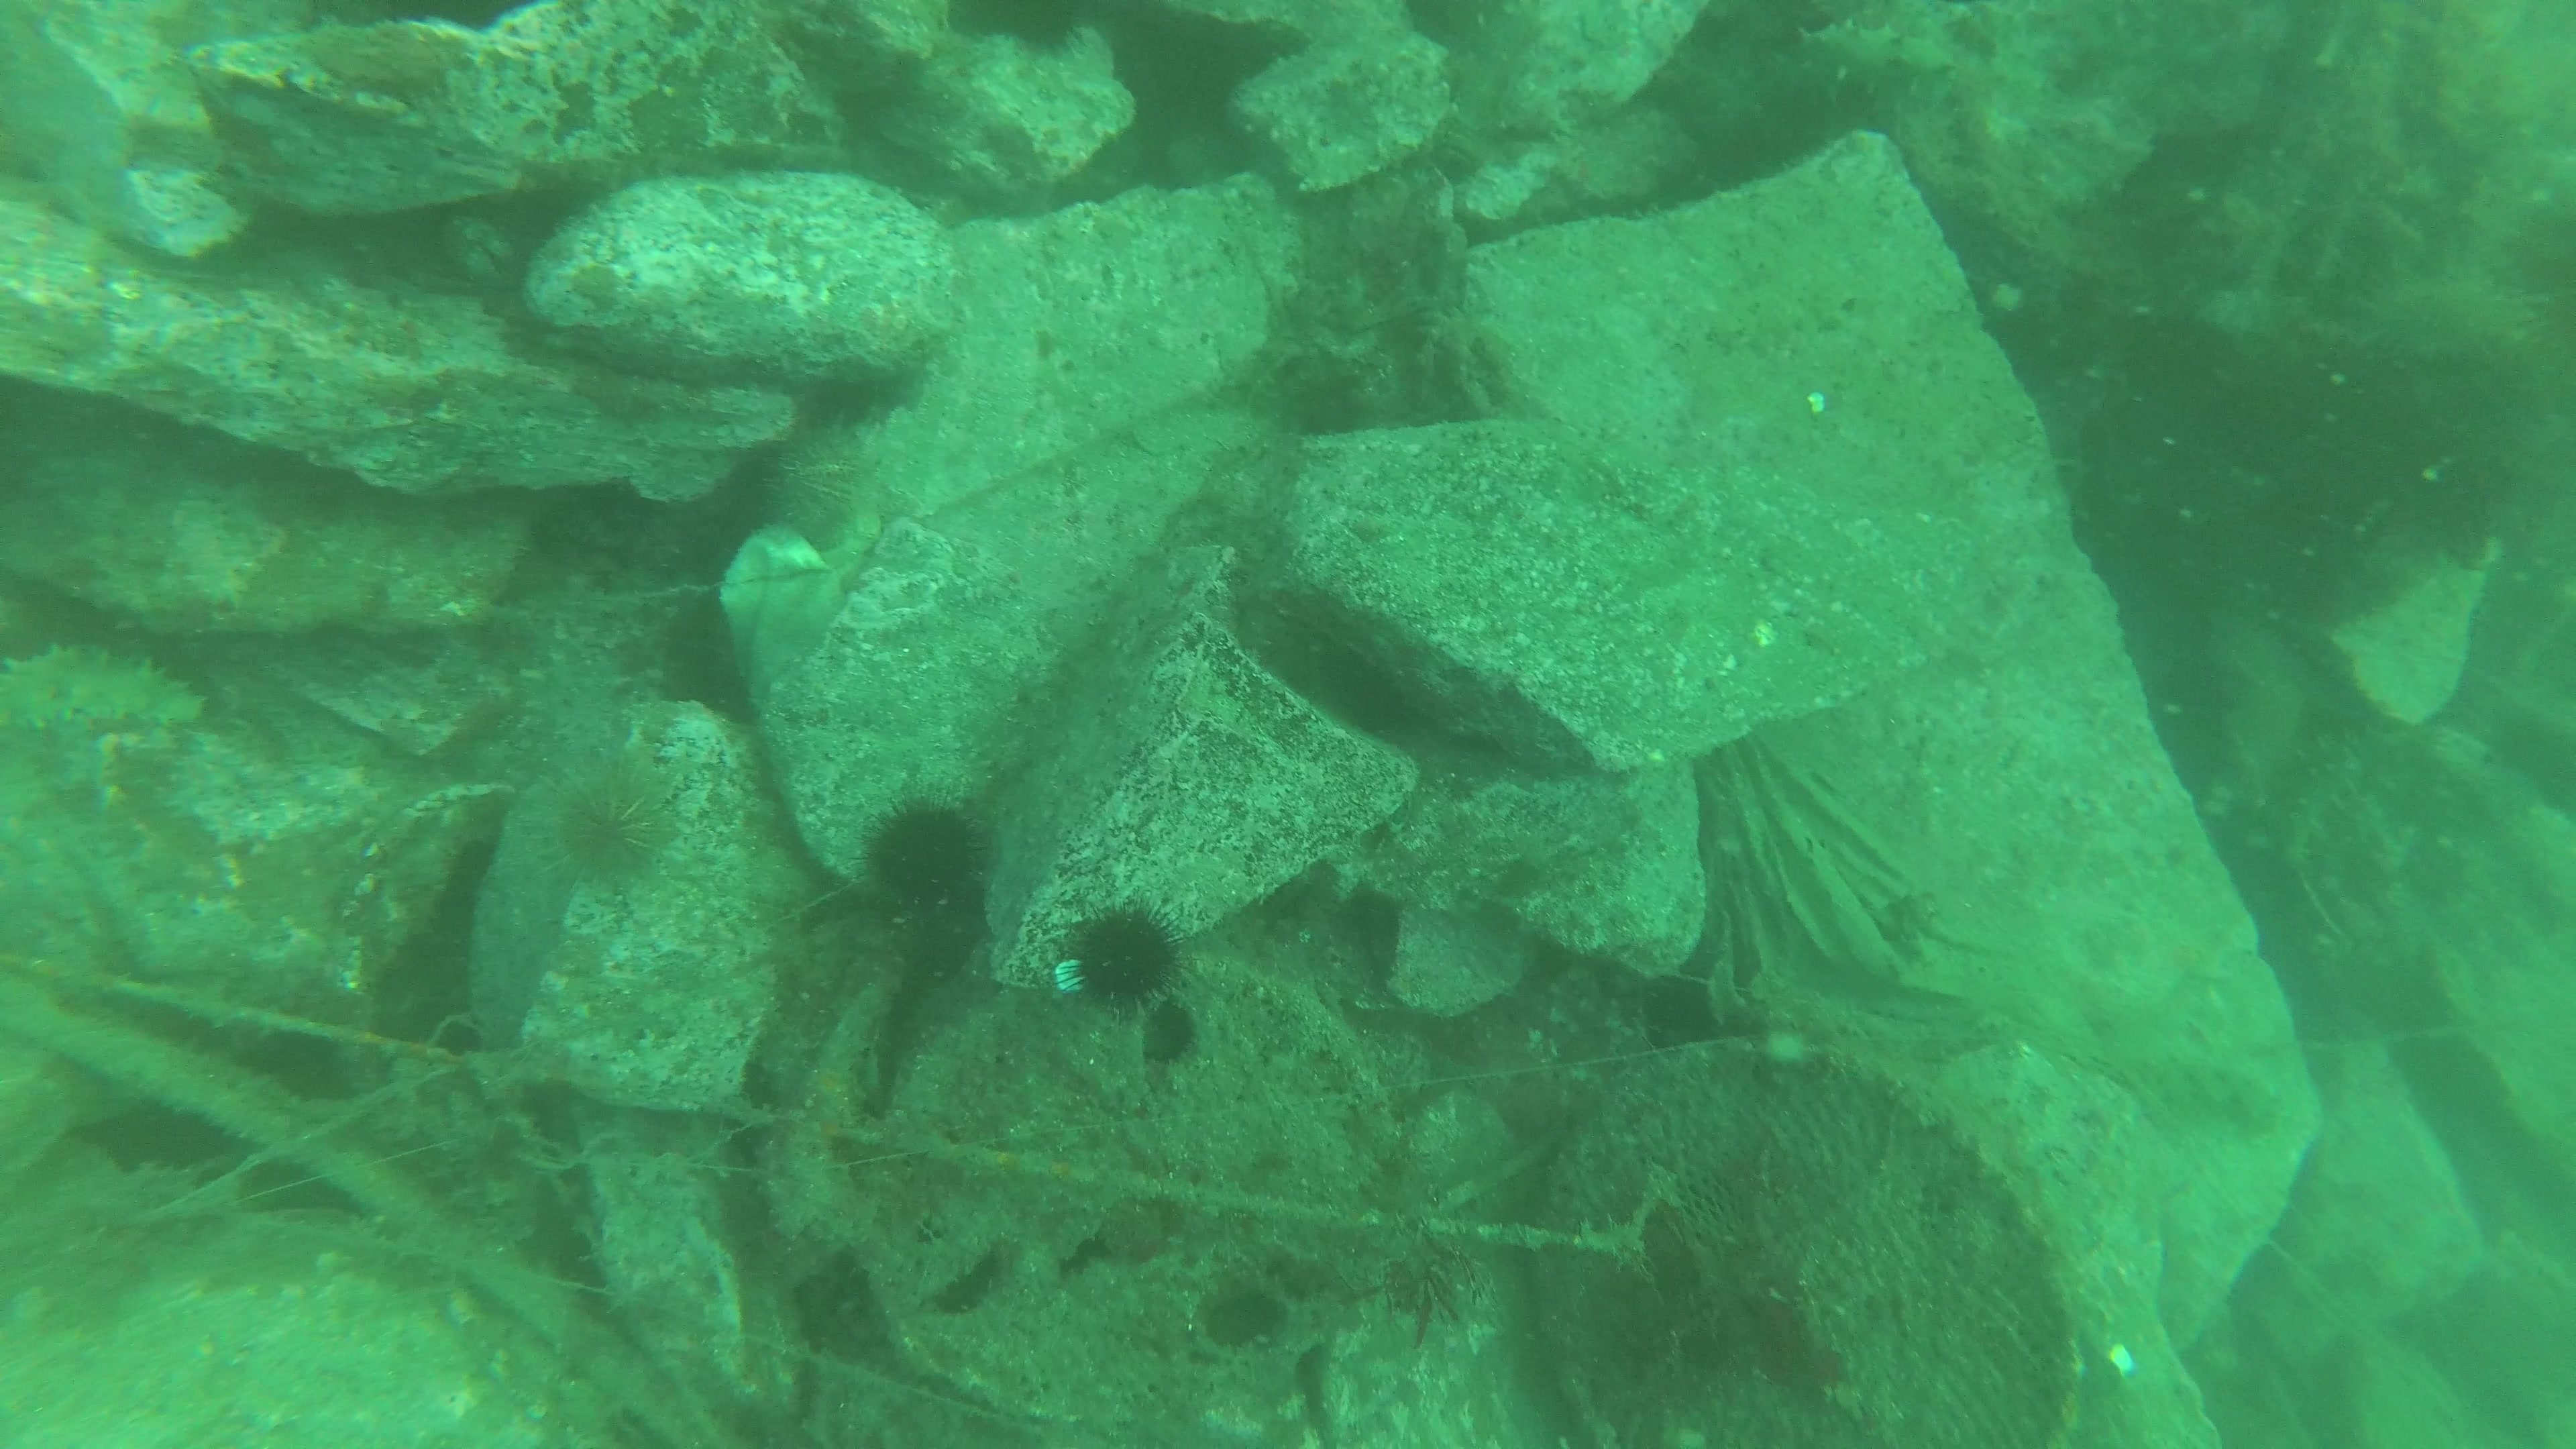echinus: (2233, 315, 2374, 501), (2098, 278, 2250, 418), (853, 805, 1005, 936), (2254, 497, 2390, 635), (1292, 630, 1430, 752), (1047, 899, 1185, 1007), (545, 777, 683, 885), (761, 418, 876, 540)
holothurian: (1928, 32, 2081, 269), (2074, 1024, 2295, 1127), (517, 623, 632, 810), (2258, 731, 2371, 897), (0, 640, 212, 727), (1776, 9, 1953, 101)
